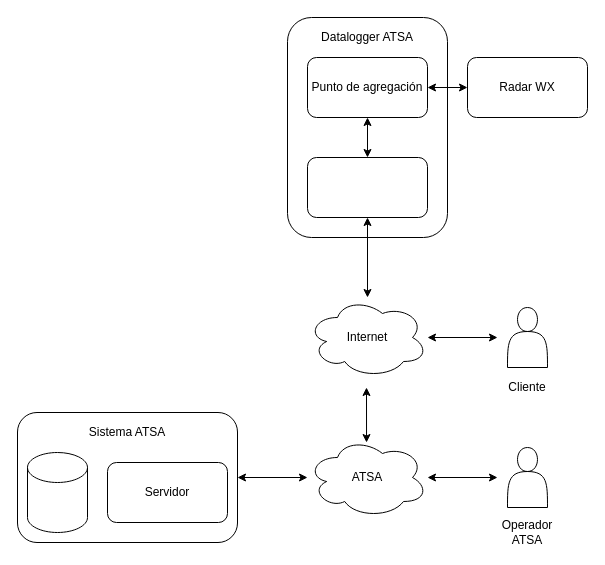
The diagram is 605 pixels wide and 565 high, and some of its shapes have lost their labels. The shapes that lost their labels are listed below. From the top down, each one's centre as x and y in pixels, then its label:
At (367,187): "Modem 4G".
At (57,492): "Base de Datos".
